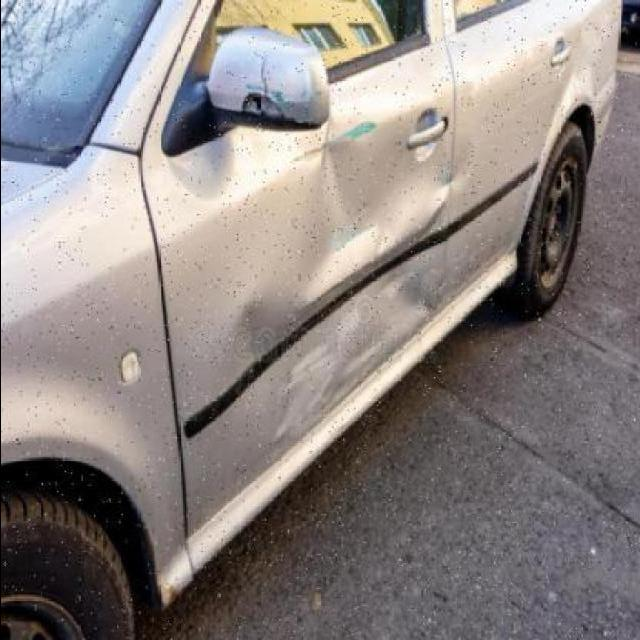Sidemirror-Damage: (190, 19, 348, 143)
doorouter-dent: (171, 146, 443, 442), (446, 37, 537, 289)
